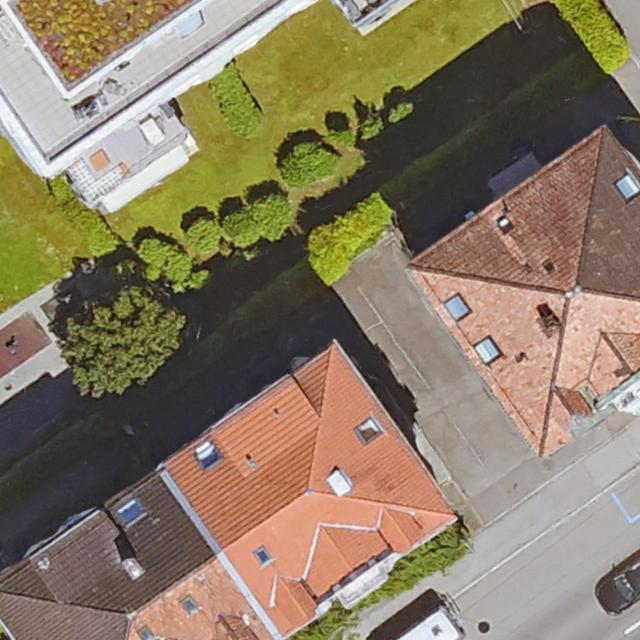tree: (61, 288, 189, 396)
